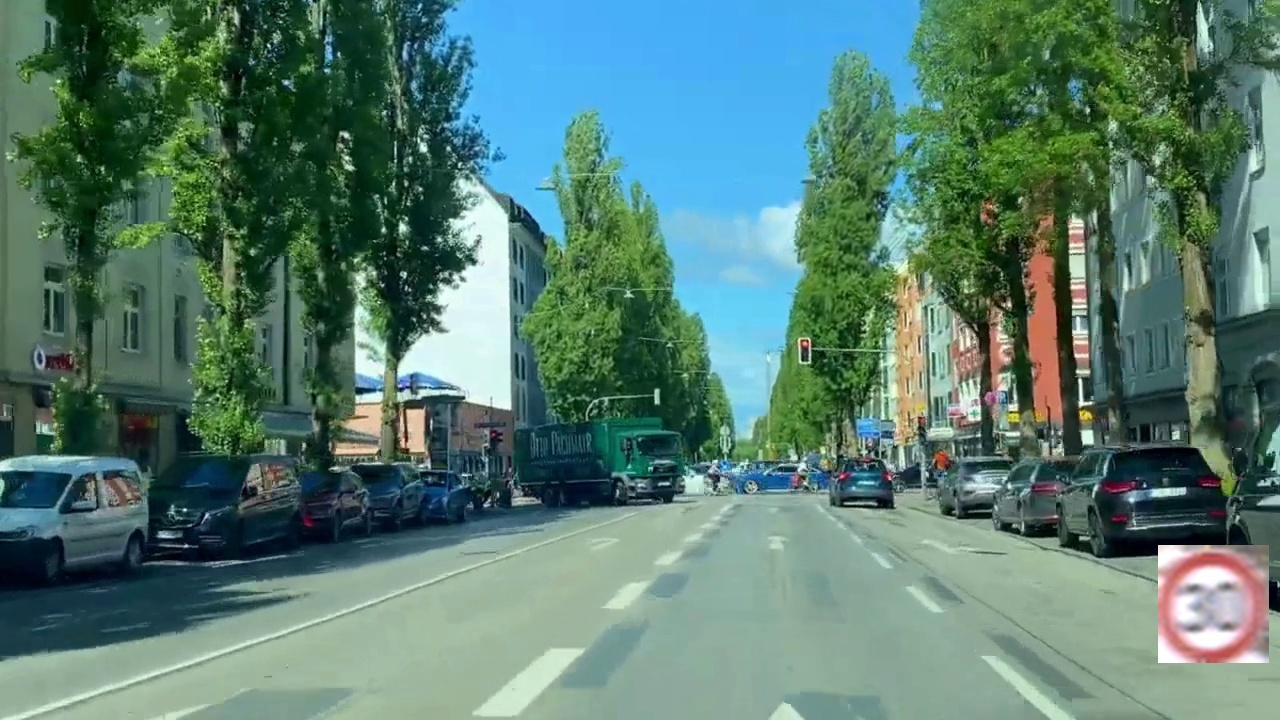Speed 30: (1158, 545, 1269, 663)
